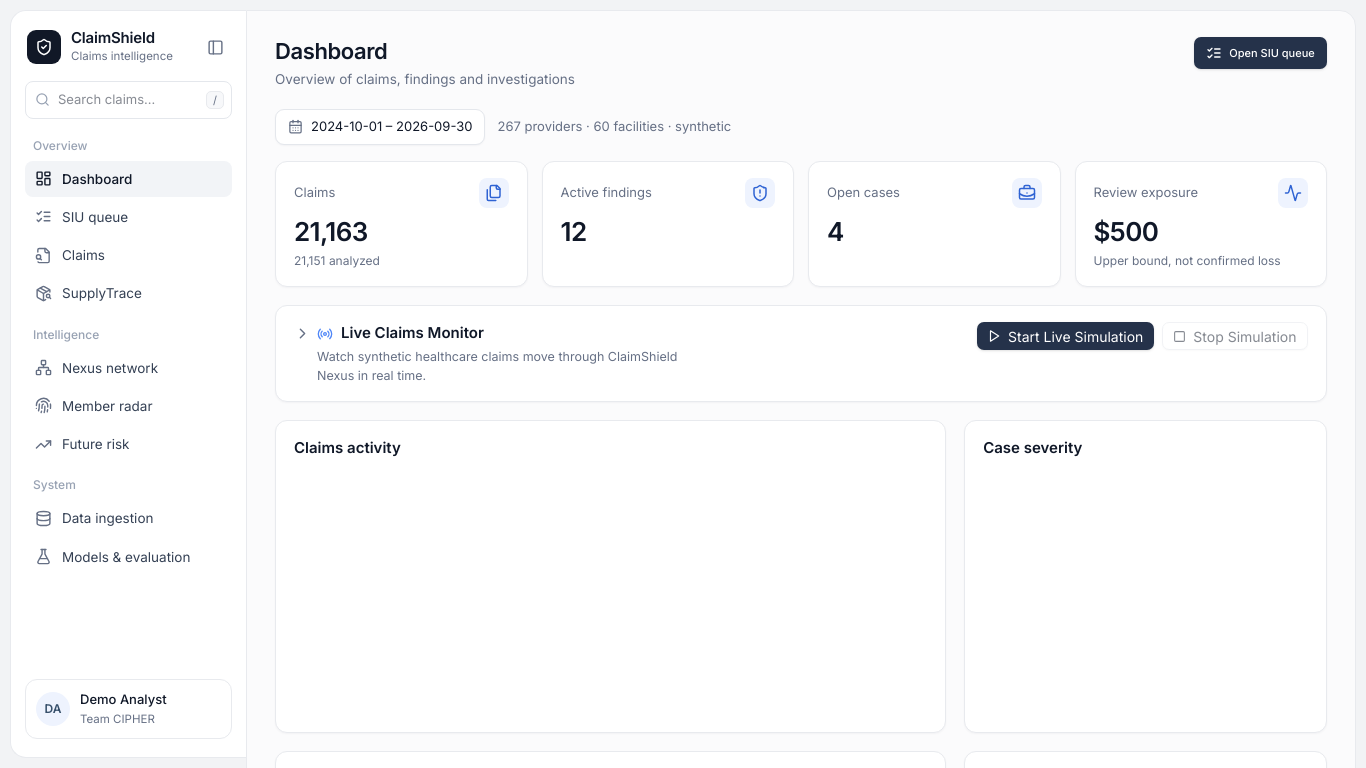
it: Live Claims Monitor › shows start errors from the API
Click the button "Start Live Simulation" at (1065, 336), box [976, 322, 1154, 350]
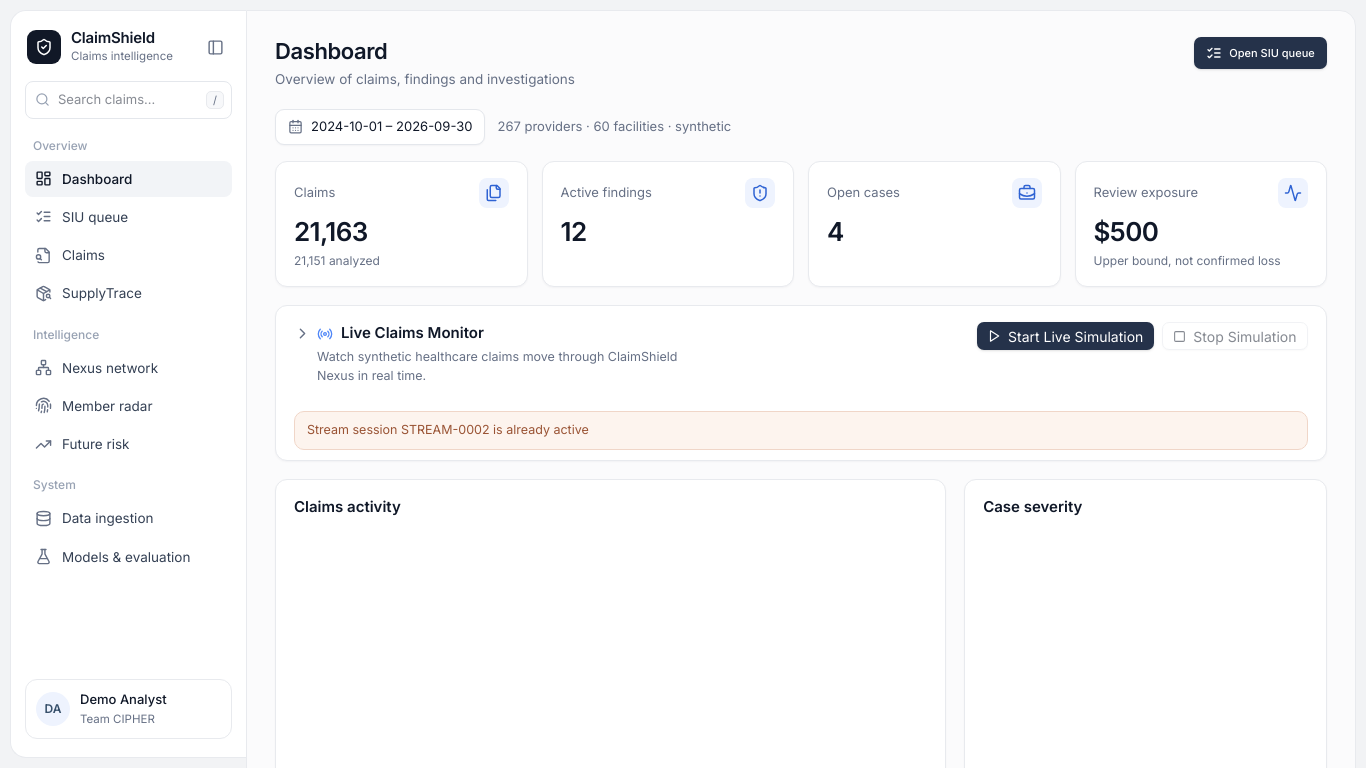
expect the message shows "already active": met, box [307, 422, 589, 437]
